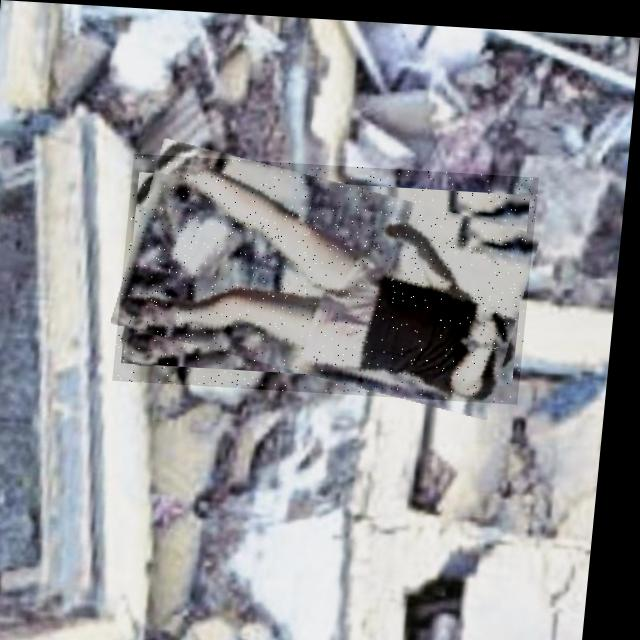Person in Rubble: (119, 152, 541, 398)
